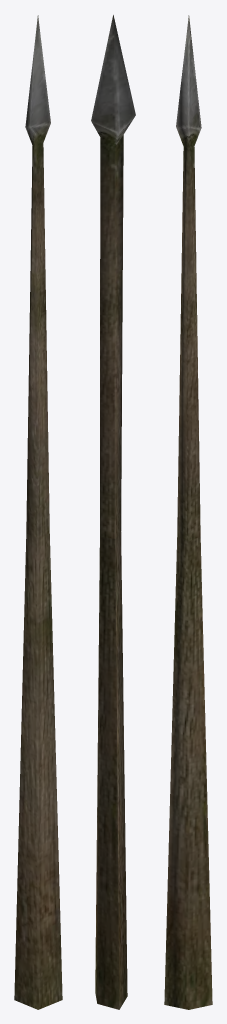
Rendered from PoleSkullsPike_Metal-transformed.glb.
3 renders of one model, left to right at view 1: azimuth 90°, elevation 25°; view 2: azimuth 210°, elevation 25°; view 3: azimuth 270°, elevation 25°, orthographic.
Visible parts, largest first — view 1: default; view 2: default; view 3: default.
Boxes of the visible parts, x1=… form: default: x1=14, y1=15, x2=62, y2=1009; default: x1=91, y1=15, x2=135, y2=1009; default: x1=164, y1=15, x2=212, y2=1009.
Bounding box in the file's own units: 0.0986 × 2.27 × 0.1004.
1 material, 1 textured.
